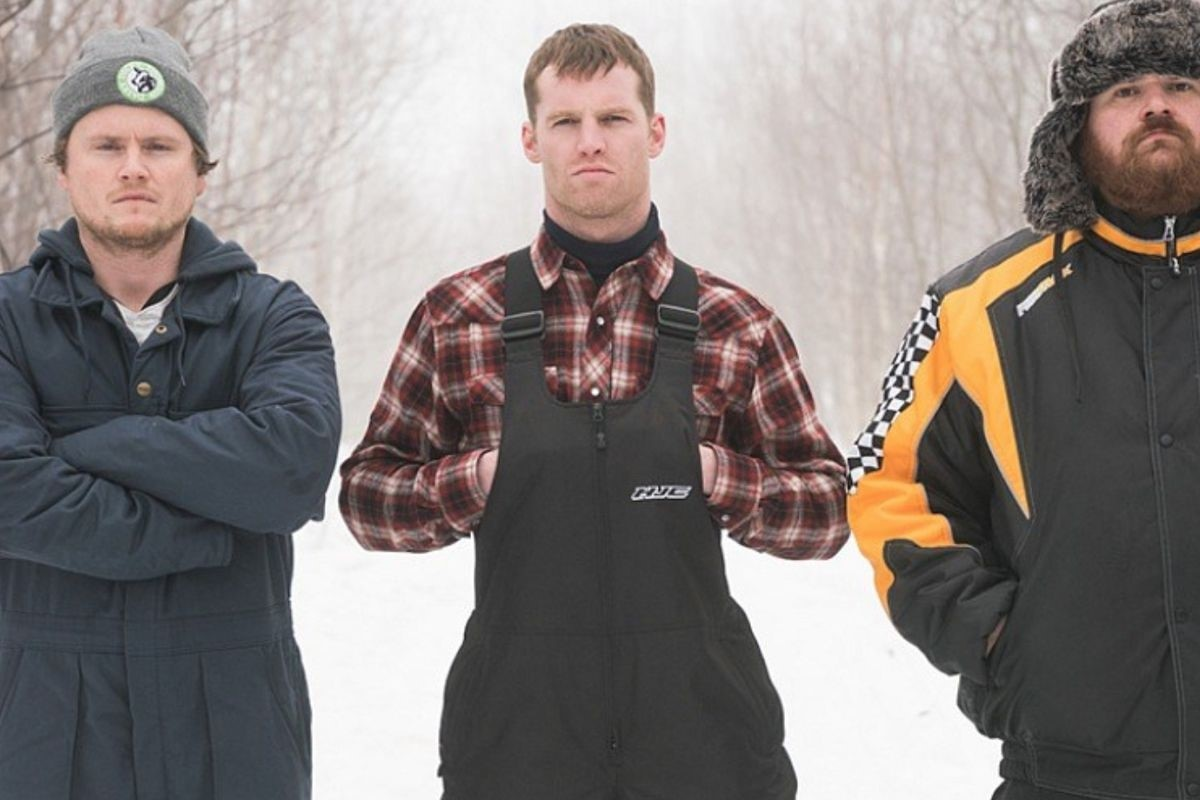face_no_mask: (523, 21, 665, 218), (62, 60, 200, 256), (1065, 35, 1200, 210)
